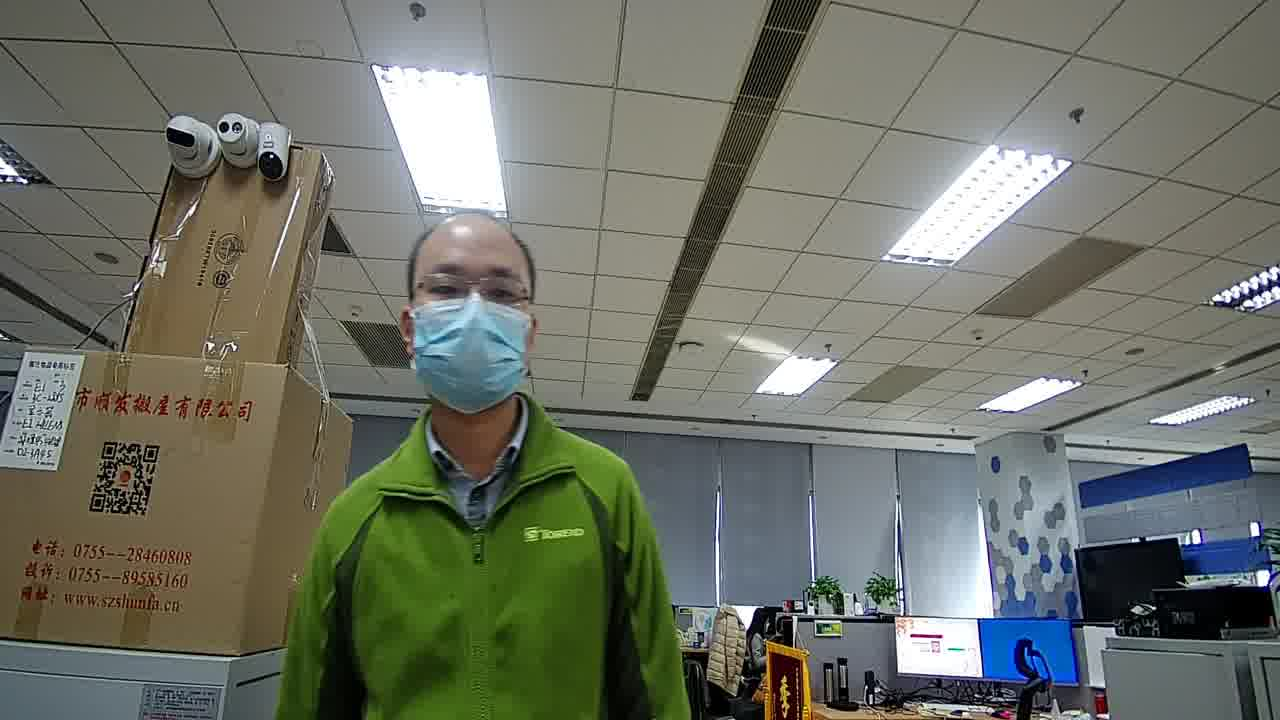face: (414, 228, 529, 413)
mask: (407, 294, 531, 412)
person: (305, 199, 645, 522), (747, 606, 773, 646)
